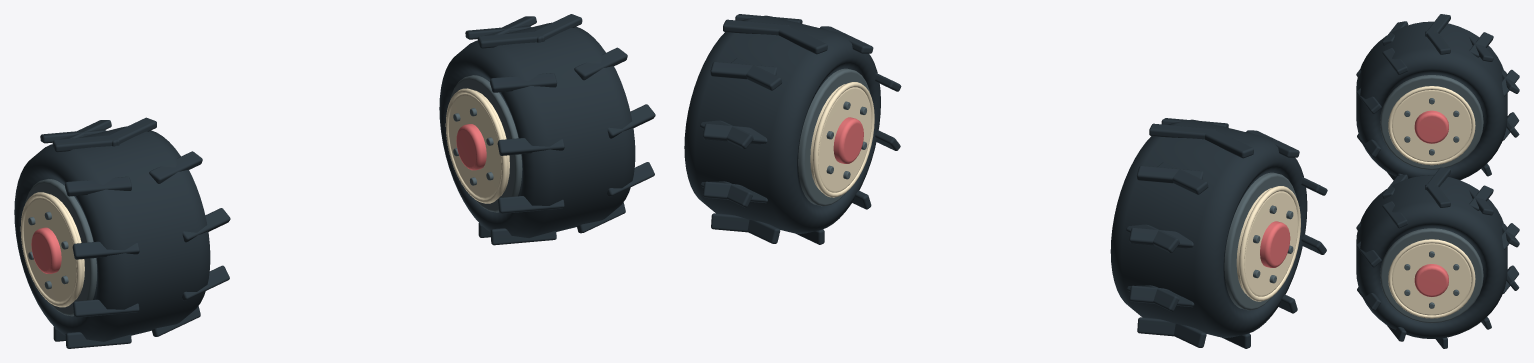
File: broto_wheels_wide.glb
The picture shows the model from 3 angles, left to right: view 1: azimuth 30°, elevation 25°; view 2: azimuth 150°, elevation 25°; view 3: azimuth 270°, elevation 25°; orthographic projection. The views are drawn at different scales.
Parts seen in each view (by area): view 1: WheelR, WheelL; view 2: WheelR, WheelL; view 3: WheelR, WheelL.
Boxes of the visible parts, x1,y1,x2,y2 form: WheelR: [439, 14, 655, 245]; WheelL: [14, 117, 230, 348]; WheelR: [684, 14, 901, 244]; WheelL: [1110, 118, 1327, 348]; WheelR: [1356, 167, 1519, 348]; WheelL: [1356, 14, 1519, 180].
Bounding box in the file's own units: 4.04 × 1.32 × 1.34.
